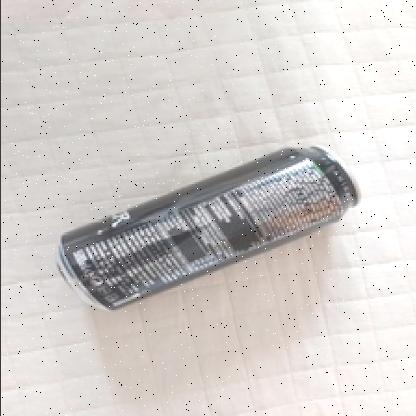Can: (57, 144, 357, 310)
